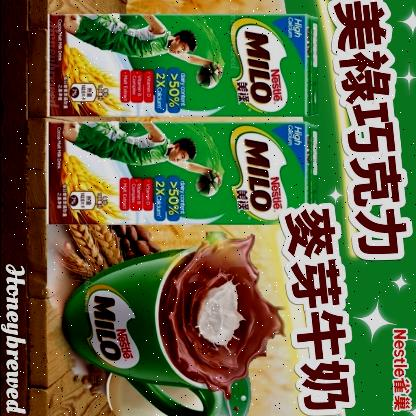Others: (48, 15, 317, 116), (49, 122, 316, 223)
